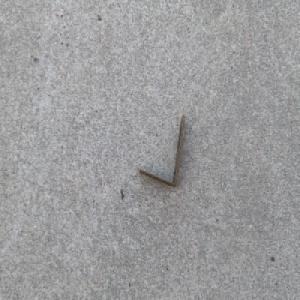MetalPart: (138, 113, 186, 188)
